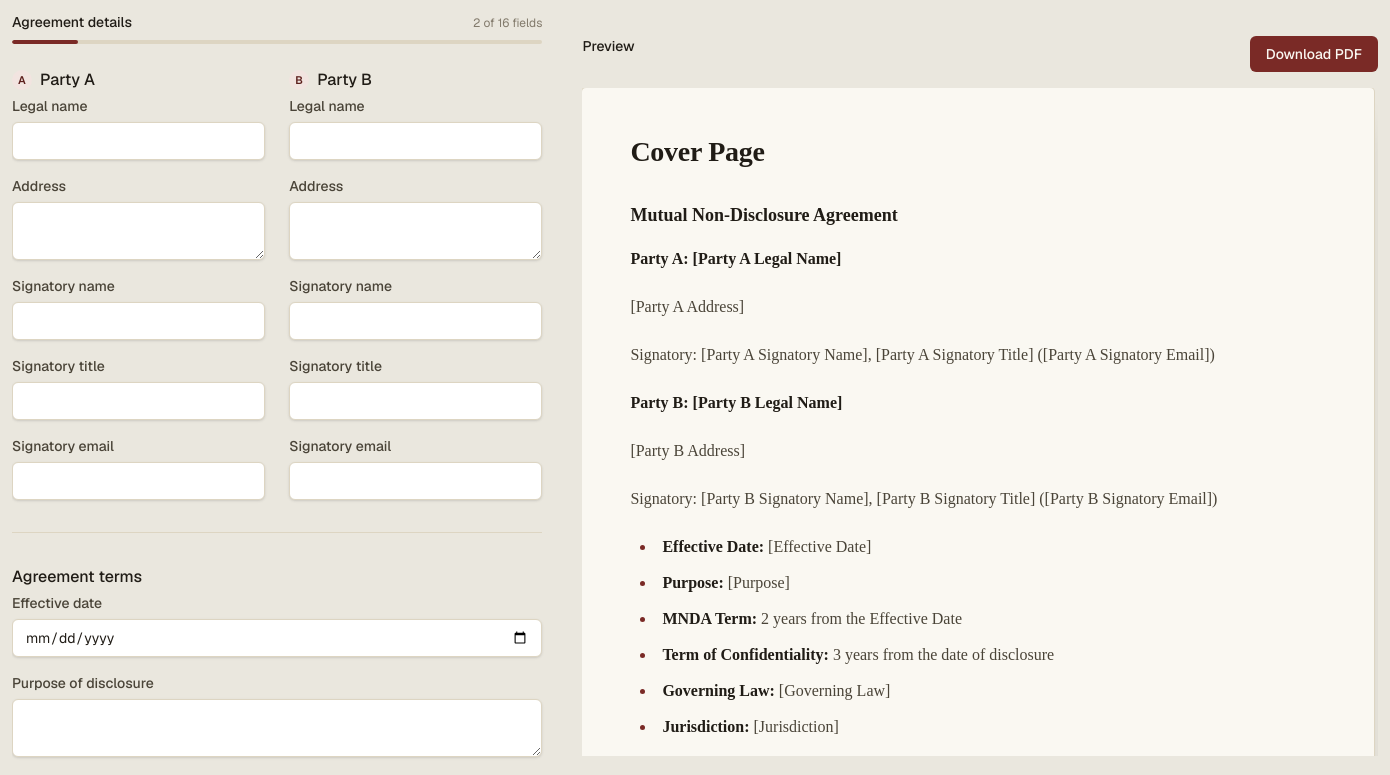
Test case: NdaBuilder › shows an inline error and re-enables the button if PDF generation throws
The width and height of the screenshot is (1390, 775).
Click the button "Download PDF": {"x": 1314, "y": 54} [1250, 36, 1378, 72]
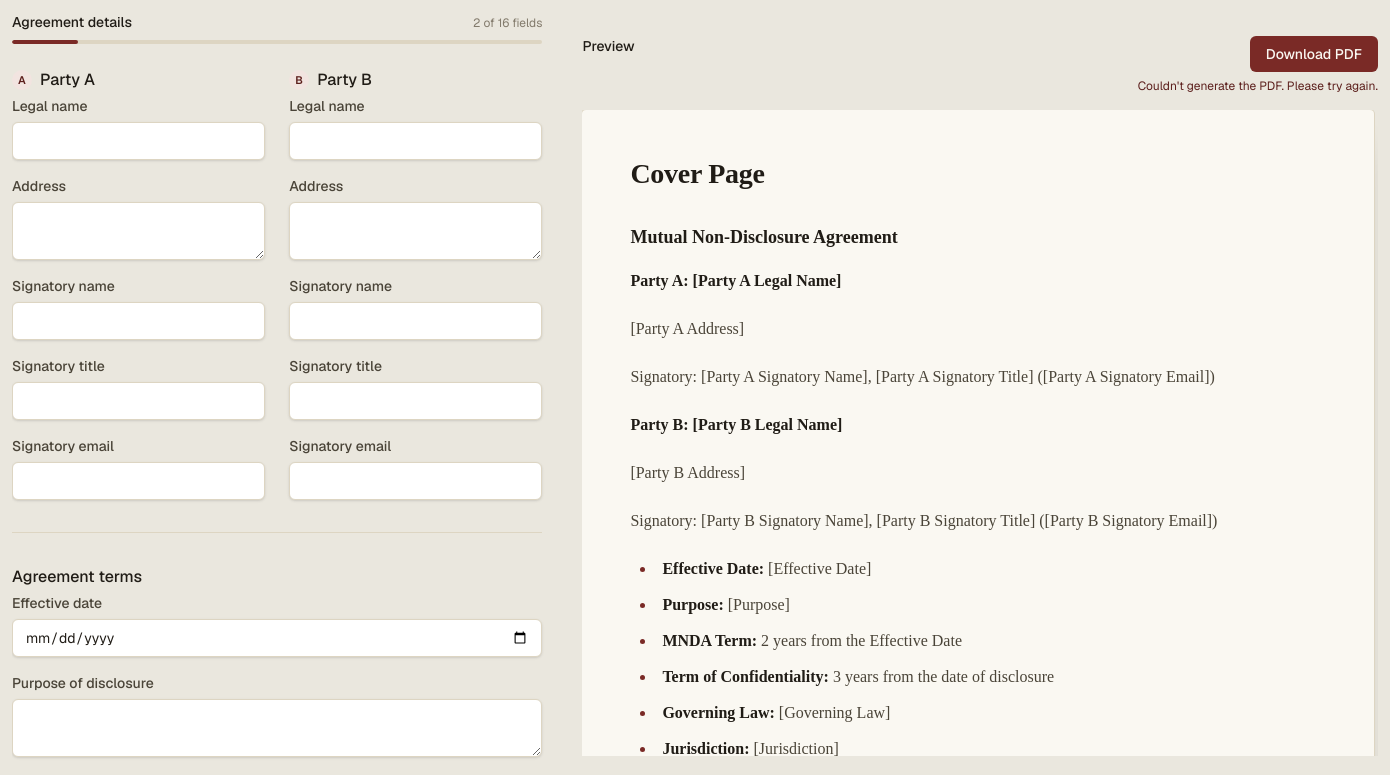
Now the message shows "Couldn't generate the PDF", box [1138, 78, 1378, 94]
